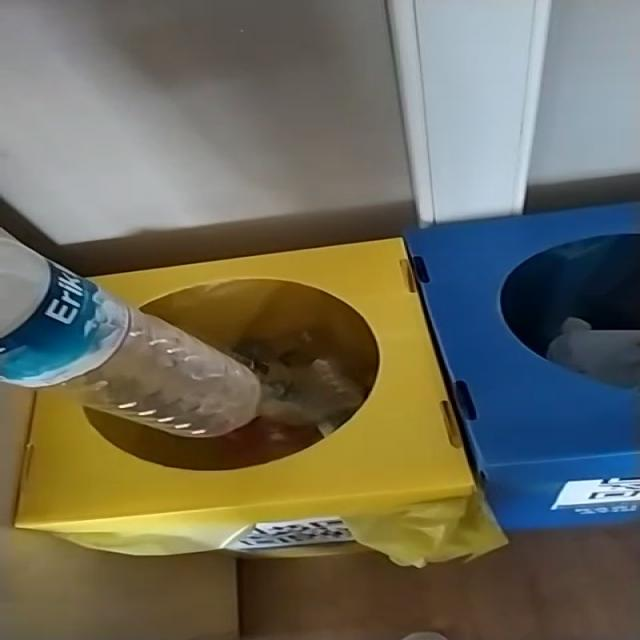plastic: (0, 234, 261, 438)
